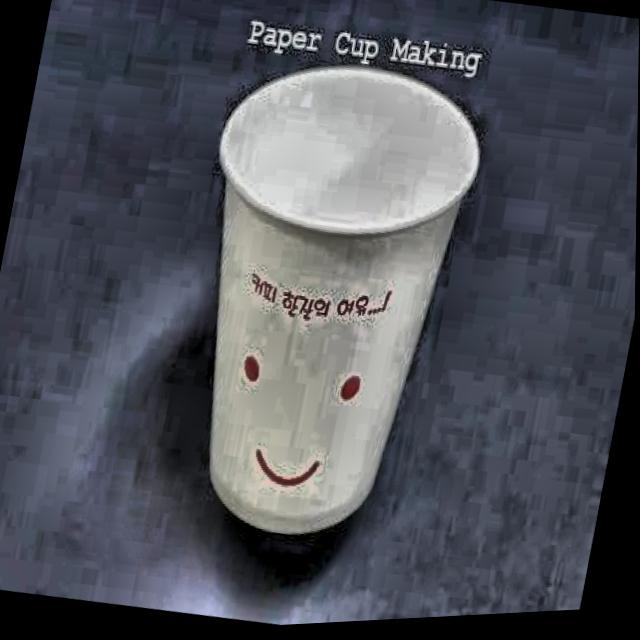Cup: (149, 35, 497, 563)
